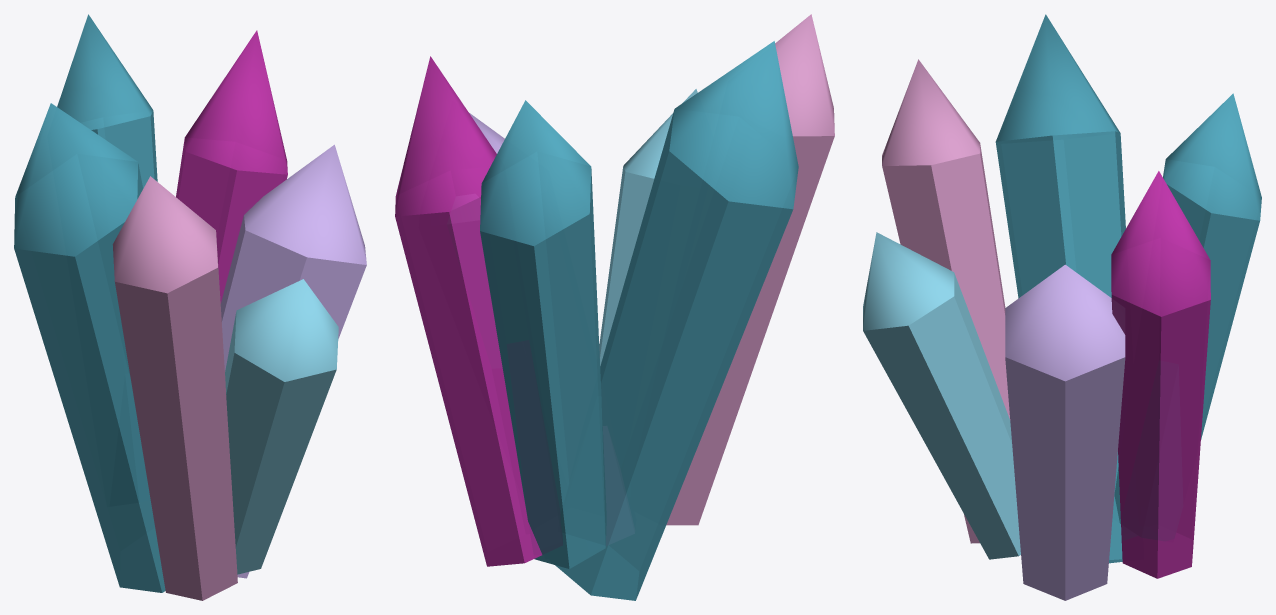
Rendered from C.cristais.fbx.
The picture shows the model from 3 angles, left to right: view 1: azimuth 30°, elevation 25°; view 2: azimuth 150°, elevation 25°; view 3: azimuth 270°, elevation 25°; orthographic projection. The views are drawn at different scales.
Parts seen in each view (by area): view 1: pasted__pCylinder24; view 2: pasted__pCylinder24; view 3: pasted__pCylinder24.
Part boxes in pixels (x1,y1,x2,y2): pasted__pCylinder24: [14, 14, 366, 600]; pasted__pCylinder24: [395, 14, 834, 600]; pasted__pCylinder24: [863, 14, 1261, 600].
Size of the model in its own units: 2.04 by 2.95 by 2.12.
